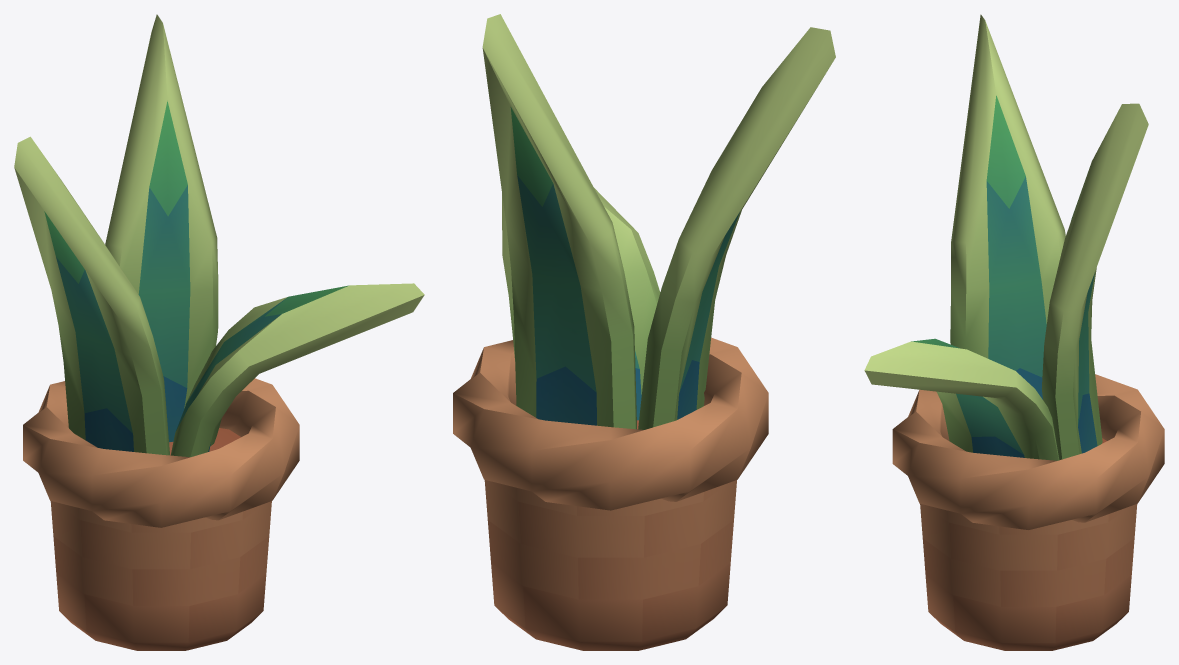
The model's file is sansevieria_plant_small_potted.fbx.
3 views of the same model, side by side, from view 1: azimuth 30°, elevation 25°; view 2: azimuth 150°, elevation 25°; view 3: azimuth 270°, elevation 25° (orthographic). The views are drawn at different scales.
Parts seen in each view (by area): view 1: sansevieria_plant_small_potted; view 2: sansevieria_plant_small_potted; view 3: sansevieria_plant_small_potted.
Part boxes in pixels (x1,y1,x2,y2): sansevieria_plant_small_potted: (14, 14, 424, 650); sansevieria_plant_small_potted: (453, 14, 835, 650); sansevieria_plant_small_potted: (864, 14, 1164, 650).
Size of the model in its own units: 71.55 by 106 by 53.81.
1 material, 1 textured.
